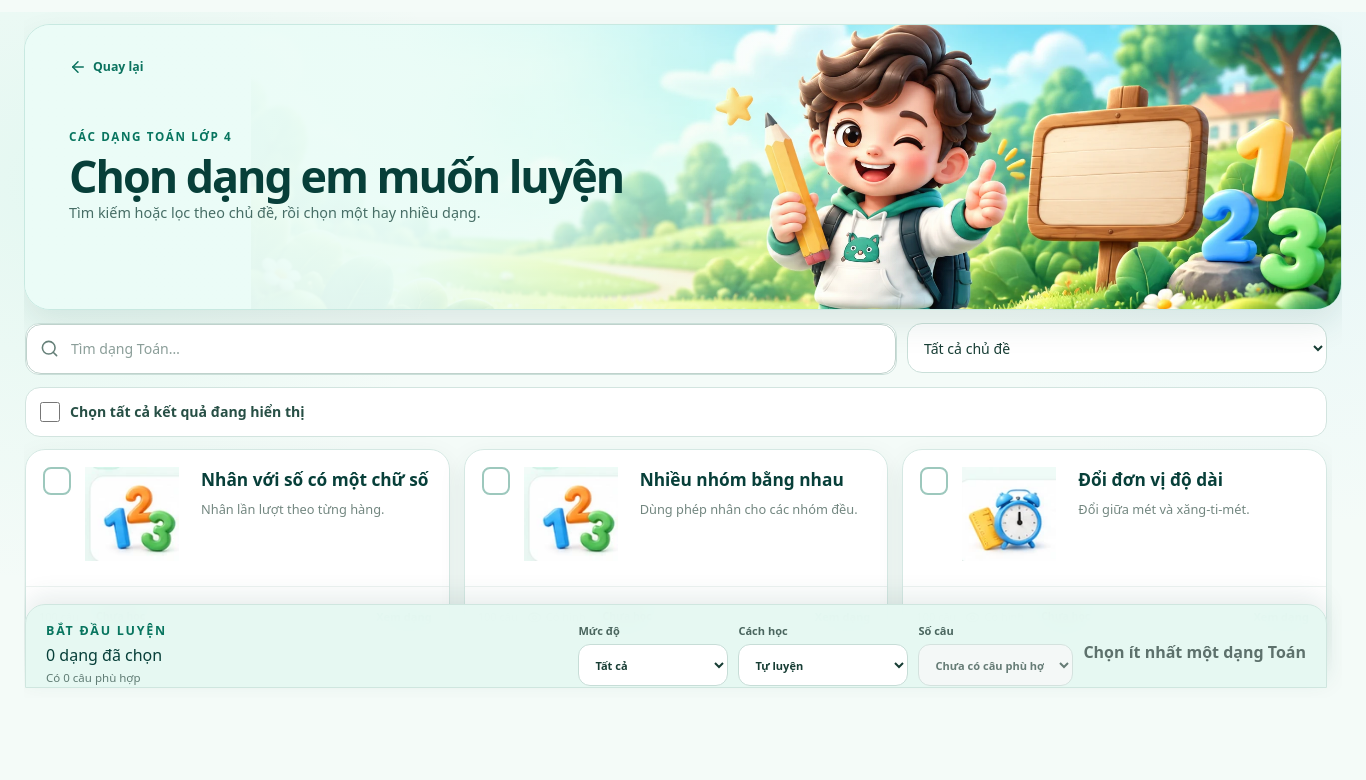
Test: LearnCatalogPage › limits count options to the eligible pool and select-all respects filtering
Select "Đơn vị đo" in the dropdown named "Lọc theo chủ đề" at (1117, 348), box [907, 323, 1327, 373]
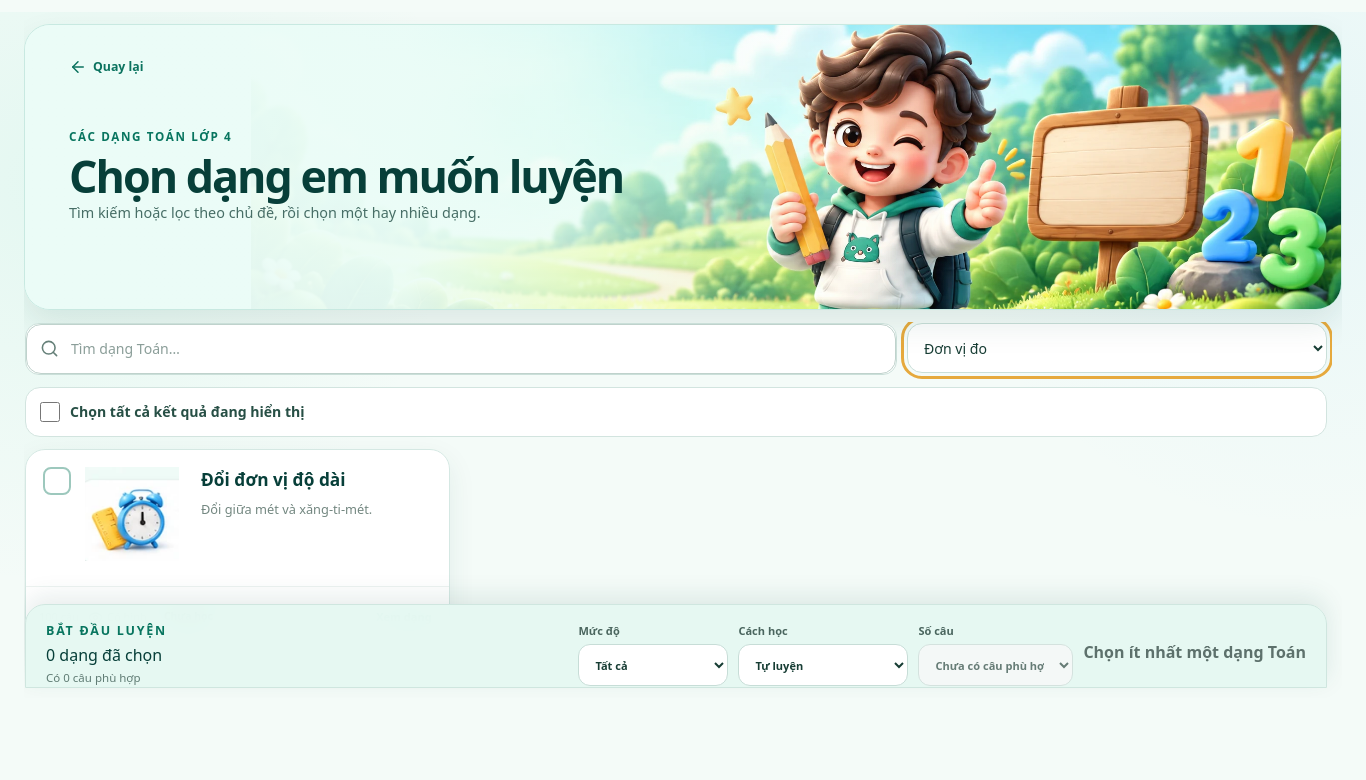
Click the checkbox labelled "Chọn tất cả kết quả đang hiển thị" at (50, 412), box [40, 402, 60, 422]
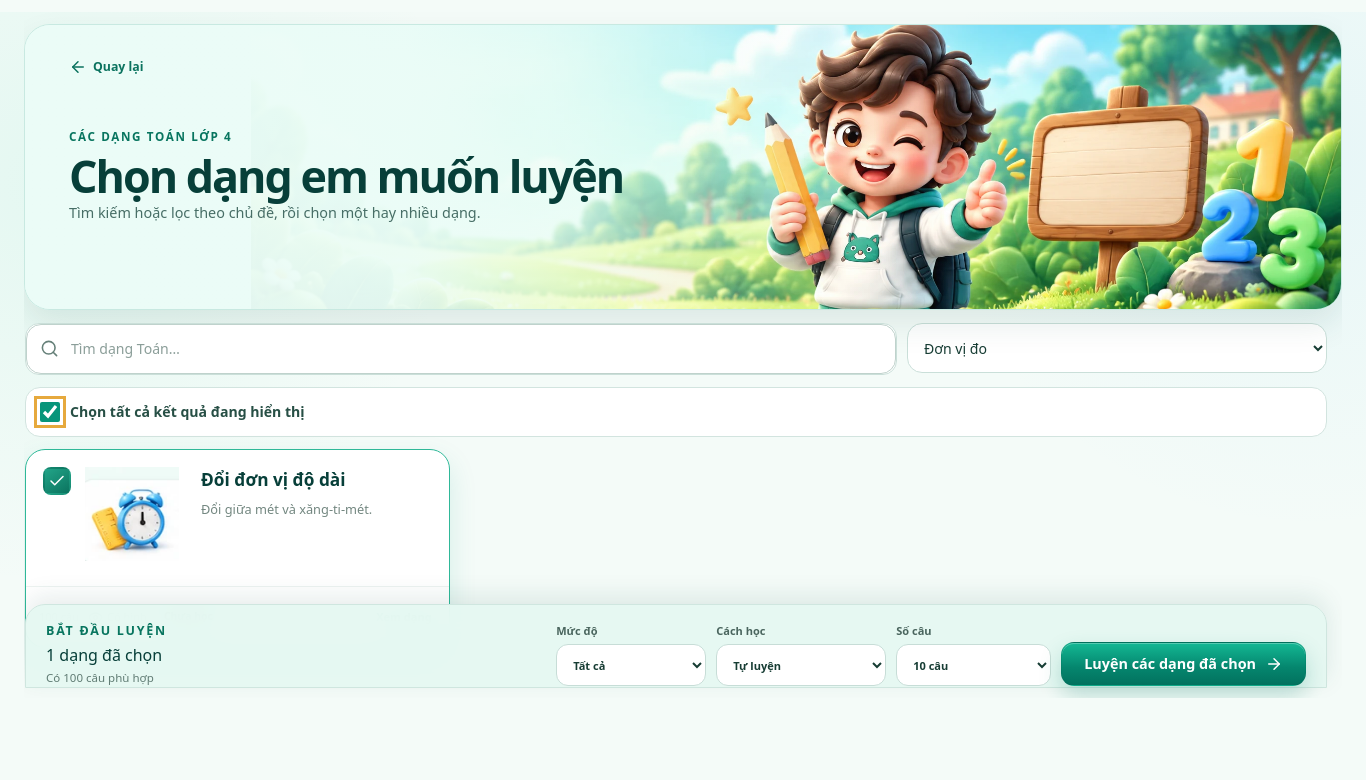
Now the heading "1 dạng đã chọn" is shown, box [46, 644, 162, 666]
Now the text "Có 100 câu phù hợp" is shown, box [46, 670, 154, 685]
Select "Nâng cao" in the dropdown labelled "Mức độ" at (631, 665), box [556, 644, 706, 686]
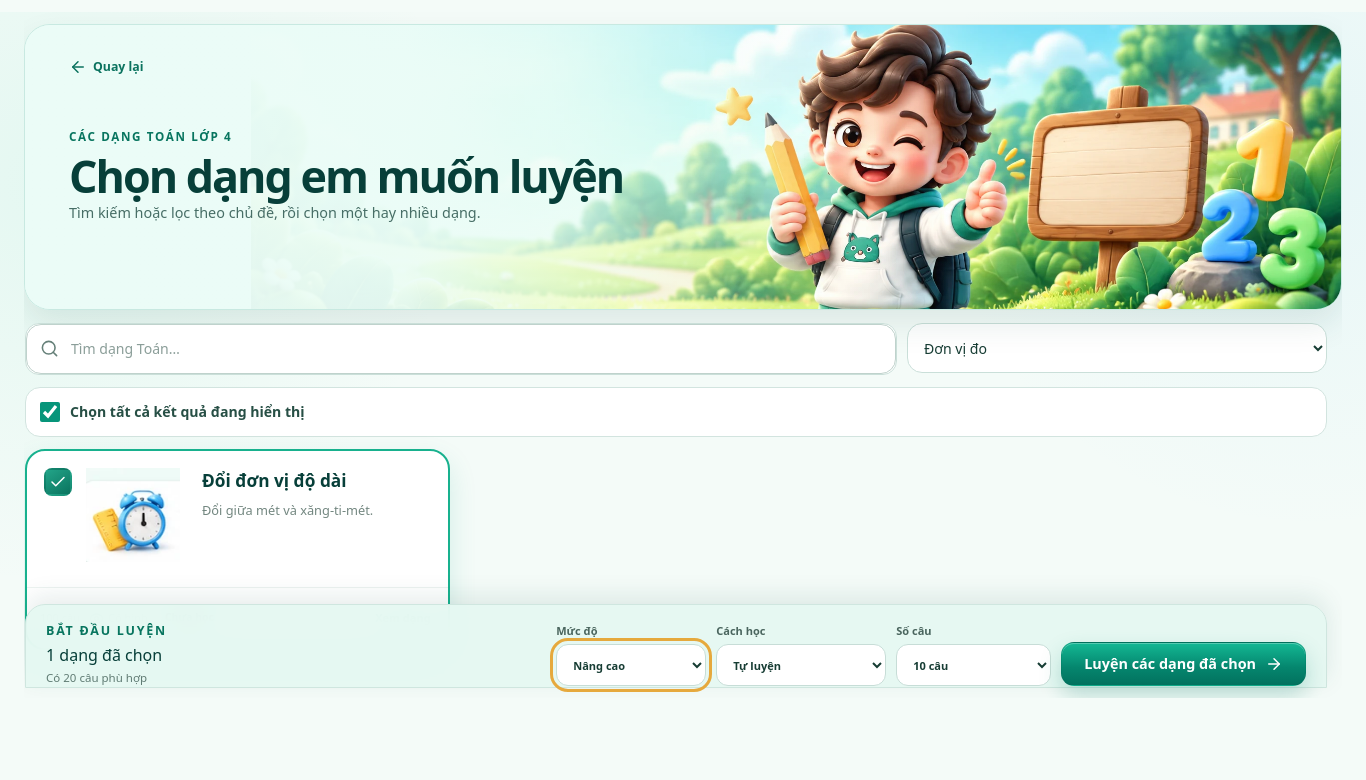
Now the text "Có 20 câu phù hợp" is shown, box [46, 670, 147, 685]
